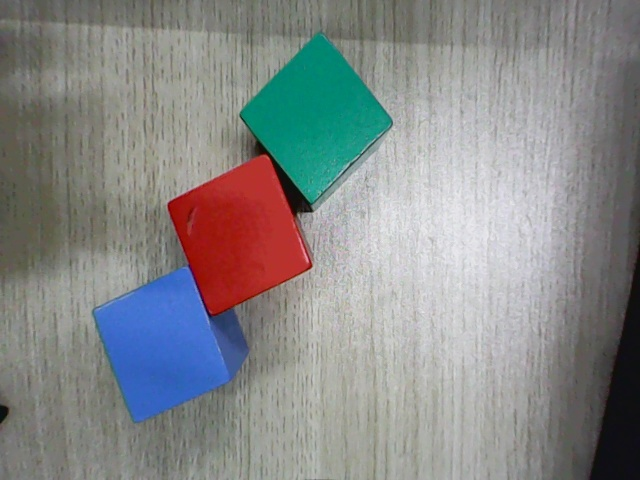upside of big cube: (239, 31, 394, 204), (167, 153, 312, 315), (91, 266, 230, 424)
